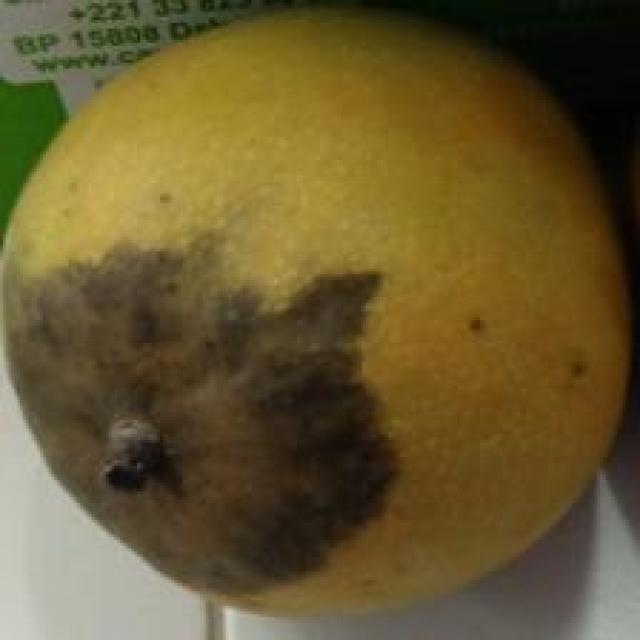Bad_Mango: (6, 12, 624, 613)
